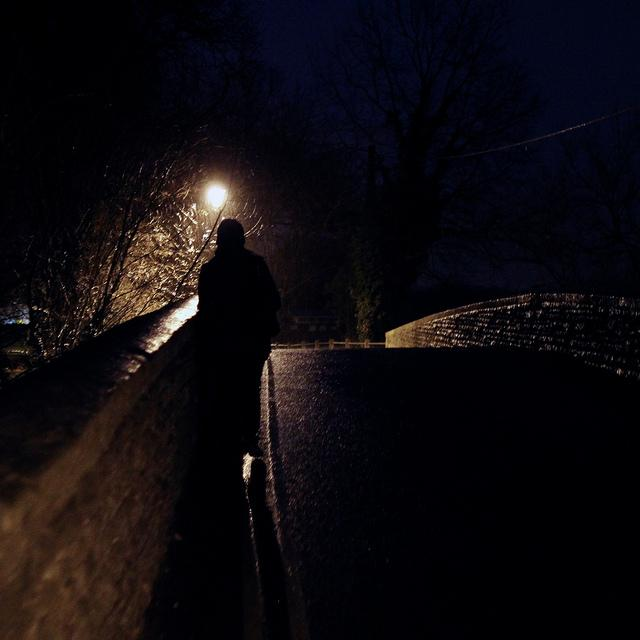People: (188, 209, 307, 465)
